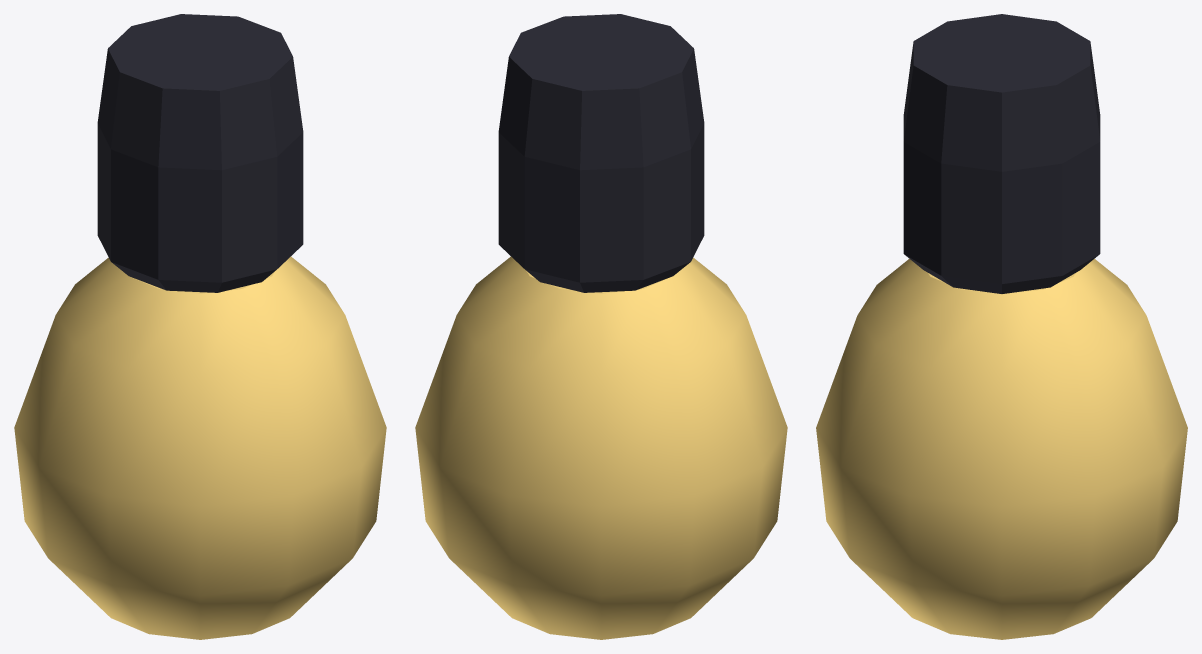
Rendered from string_bulb.glb.
3 renders of one model, left to right at view 1: azimuth 30°, elevation 25°; view 2: azimuth 150°, elevation 25°; view 3: azimuth 270°, elevation 25°, orthographic.
Parts seen in each view (by area): view 1: glow, socket; view 2: glow, socket; view 3: glow, socket.
Part boxes in pixels (x1,y1,x2,y2): glow: [14, 256, 386, 639]; socket: [97, 14, 303, 292]; glow: [415, 256, 787, 639]; socket: [498, 14, 704, 292]; glow: [816, 259, 1187, 639]; socket: [903, 14, 1100, 293].
Bounding box in the file's own units: 0.18 × 0.3 × 0.18.
